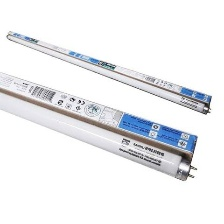book: (0, 64, 202, 164), (3, 28, 213, 107)
light_bulb: (0, 82, 199, 184), (3, 32, 214, 117)
